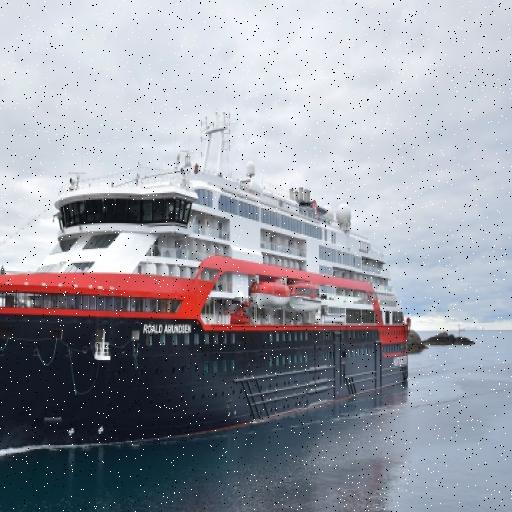cruises: (1, 87, 415, 453)
